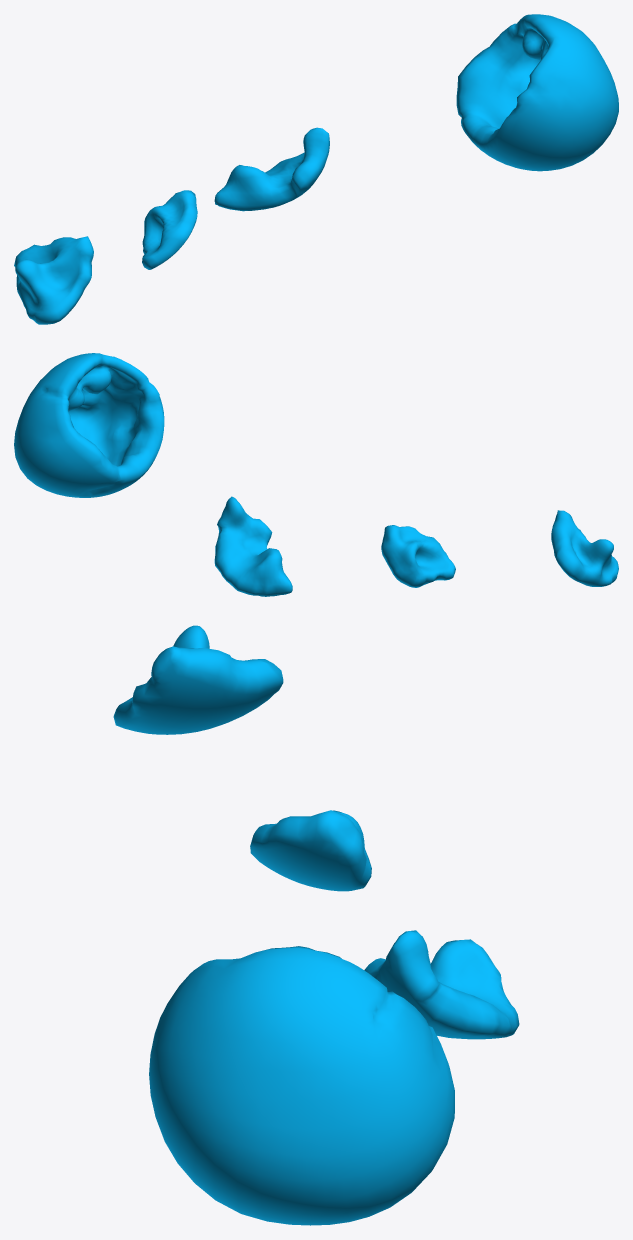
Rendered from Geode 2 Paint.fbx.
3 renders of one model, top to bottom at view 1: azimuth 30°, elevation 25°; view 2: azimuth 150°, elevation 25°; view 3: azimuth 270°, elevation 25°, orthographic. The views are drawn at different scales.
Parts seen in each view (by area): view 1: seven7_low, four4_low, six6_low, five5_low; view 2: seven7_low, six6_low, five5_low, four4_low; view 3: seven7_low, four4_low, six6_low, five5_low.
Part boxes in pixels (x1,y1,x2,y2): seven7_low: (456, 14, 618, 171); four4_low: (14, 236, 93, 324); six6_low: (214, 127, 329, 211); five5_low: (142, 190, 197, 269); seven7_low: (14, 353, 164, 497); six6_low: (214, 496, 292, 596); five5_low: (381, 525, 455, 587); four4_low: (551, 510, 618, 586); seven7_low: (149, 946, 454, 1225); four4_low: (113, 625, 283, 734); six6_low: (364, 930, 519, 1039); five5_low: (250, 810, 371, 891).
Size of the model in its own units: 61.89 by 15.61 by 19.45.
